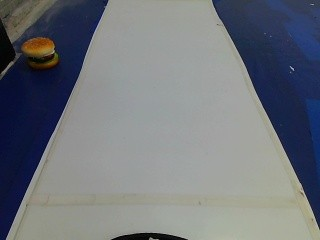burger: (14, 27, 69, 76)
